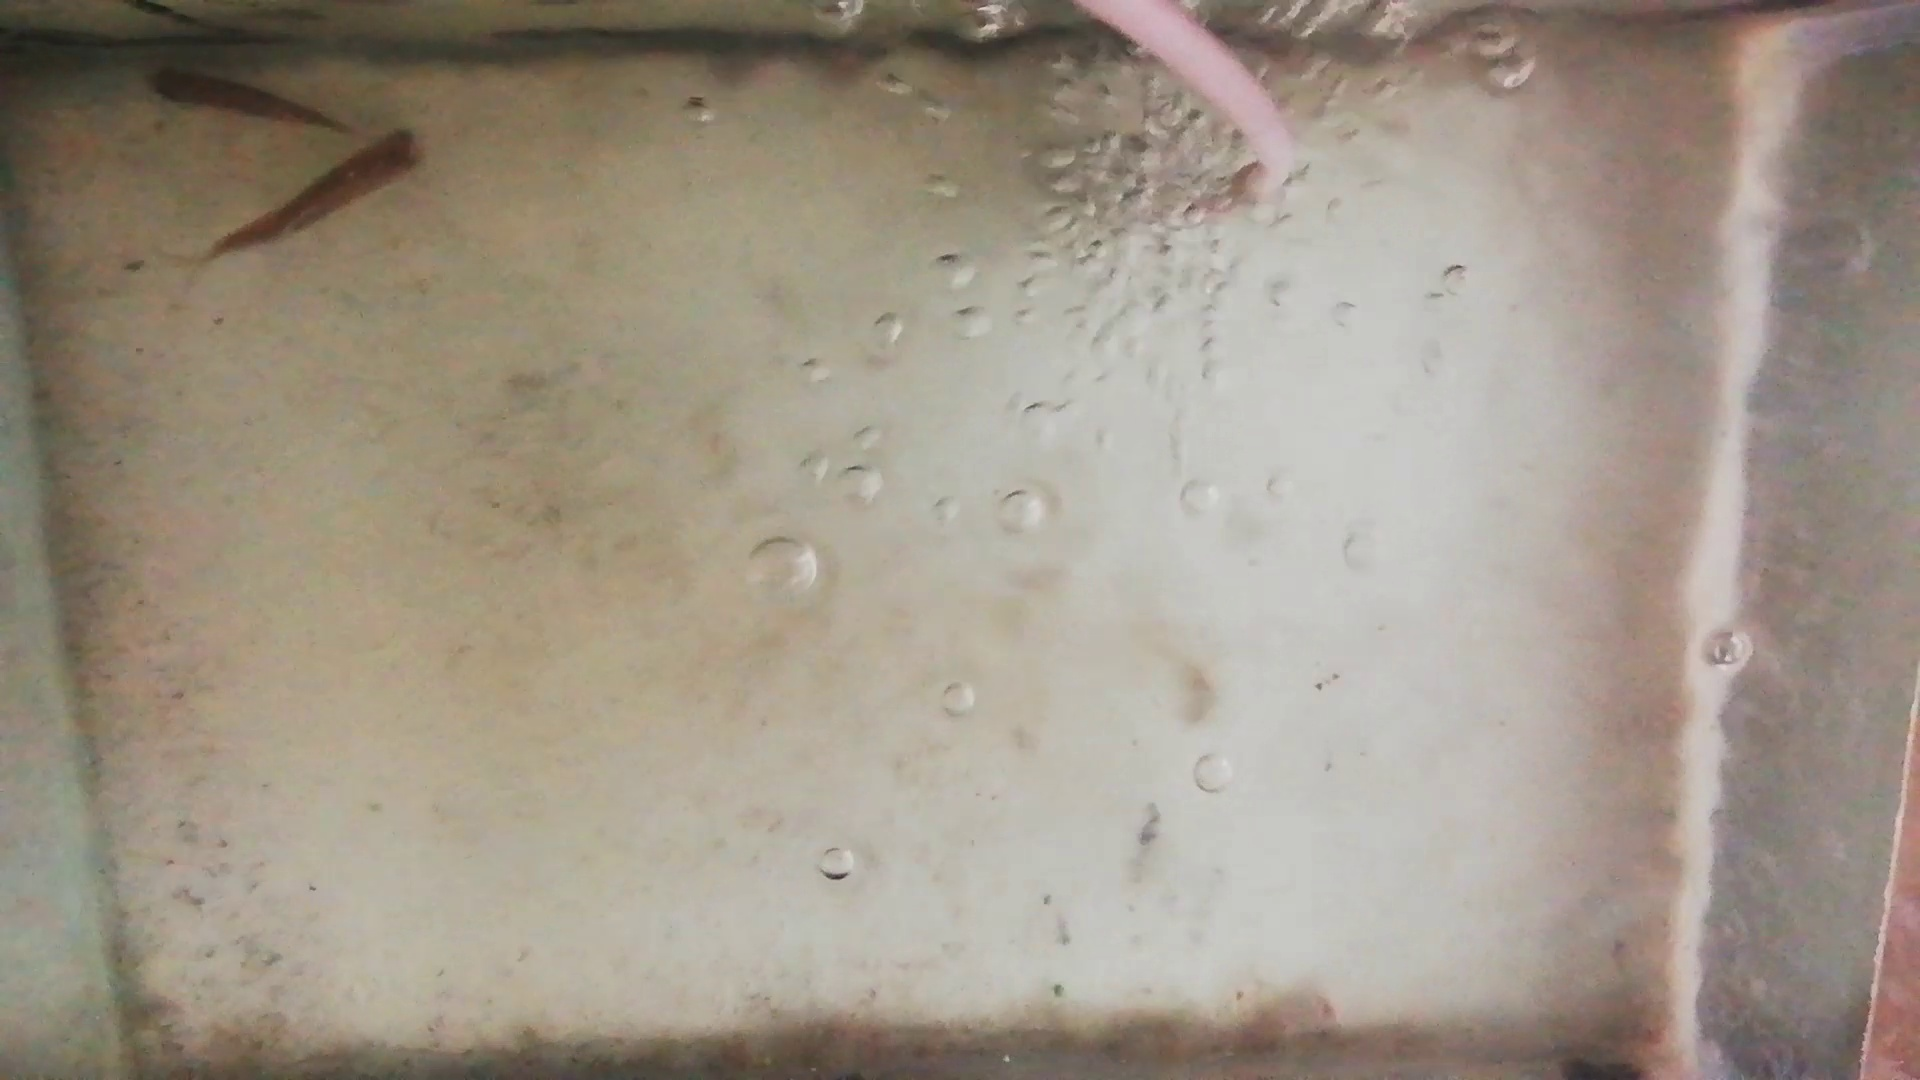fish: (204, 129, 431, 258), (140, 65, 342, 131)
